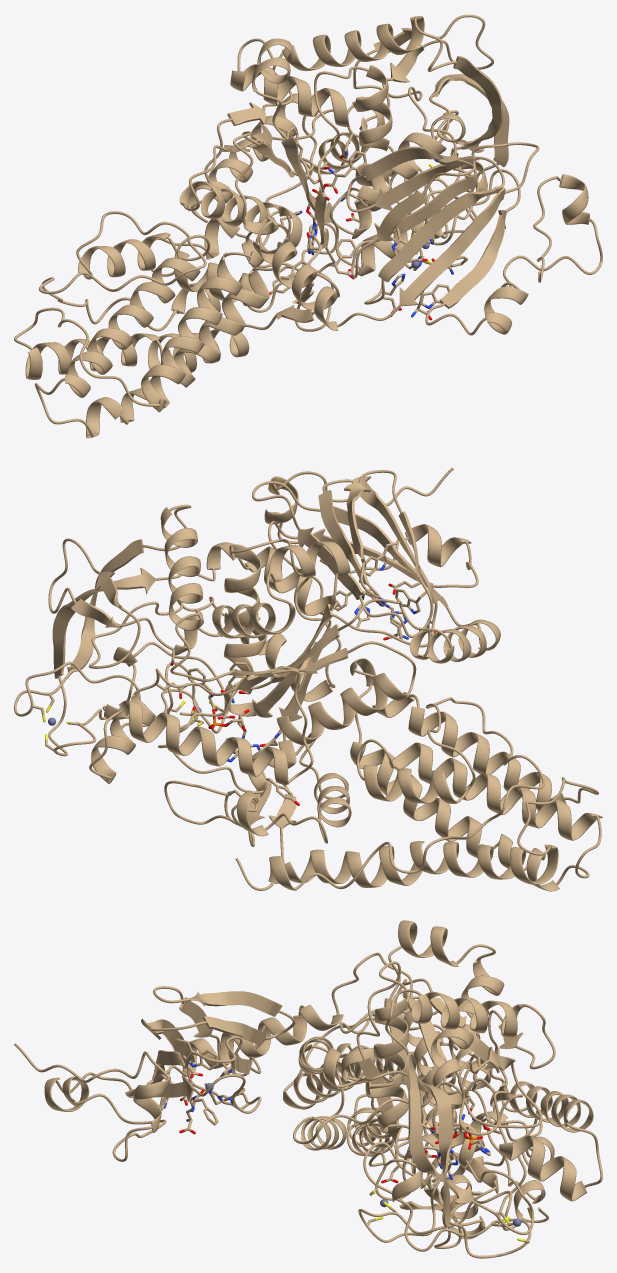
The picture shows the model from 3 angles, top to bottom: view 1: azimuth 30°, elevation 25°; view 2: azimuth 150°, elevation 25°; view 3: azimuth 270°, elevation 25°; orthographic projection.
Parts seen in each view (by area): view 1: ribbons mesh, bonds; view 2: ribbons mesh, bonds; view 3: ribbons mesh, bonds, atoms.
Boxes of the visible parts, x1,y1,x2,y2 form: ribbons mesh: (14, 14, 602, 438); bonds: (269, 125, 467, 319); ribbons mesh: (14, 467, 602, 891); bonds: (32, 542, 435, 811); ribbons mesh: (14, 920, 602, 1258); bonds: (159, 1039, 531, 1244); atoms: (161, 1039, 533, 1242).
Size of the model in its own units: 85.29 by 51.28 by 85.42.
